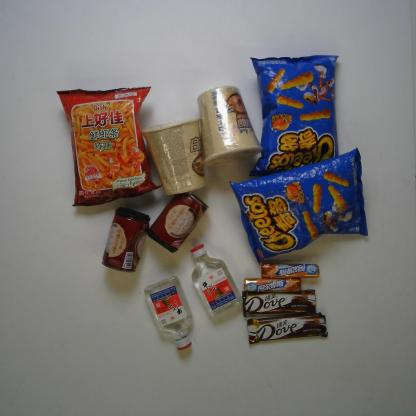Alcohol: (143, 276, 195, 352), (191, 240, 242, 317)
Candy: (259, 260, 324, 280), (244, 275, 302, 293)
Canned Food: (145, 186, 210, 253), (101, 206, 152, 272)
Chocolate: (244, 312, 332, 344), (240, 288, 320, 316)
Instant Noodles: (194, 84, 263, 169), (140, 118, 208, 195)
Puffed Food: (240, 140, 378, 264), (54, 86, 162, 207), (250, 54, 341, 178)
